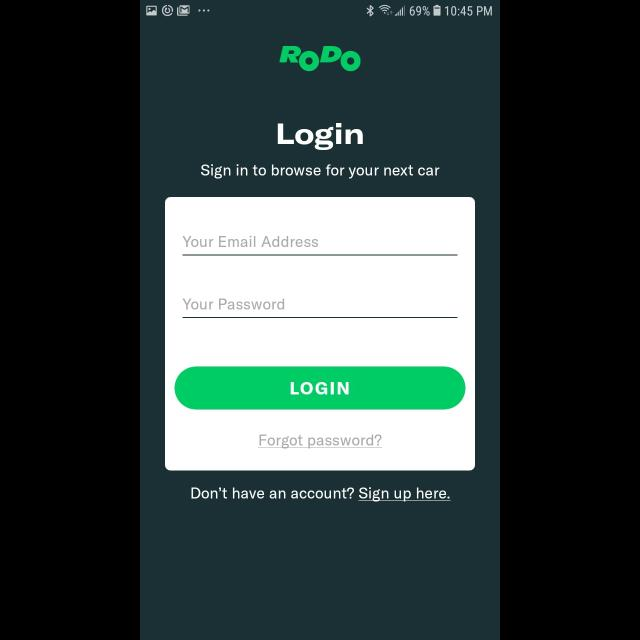image: (280, 46, 360, 72)
input: (182, 236, 458, 256), (182, 298, 458, 318)
text: (192, 486, 450, 502), (201, 164, 439, 180), (277, 124, 363, 150), (258, 435, 382, 449), (184, 236, 318, 248), (183, 298, 285, 310)
textbutton: (174, 366, 466, 409)
uppertaskbar: (140, 1, 500, 18)
